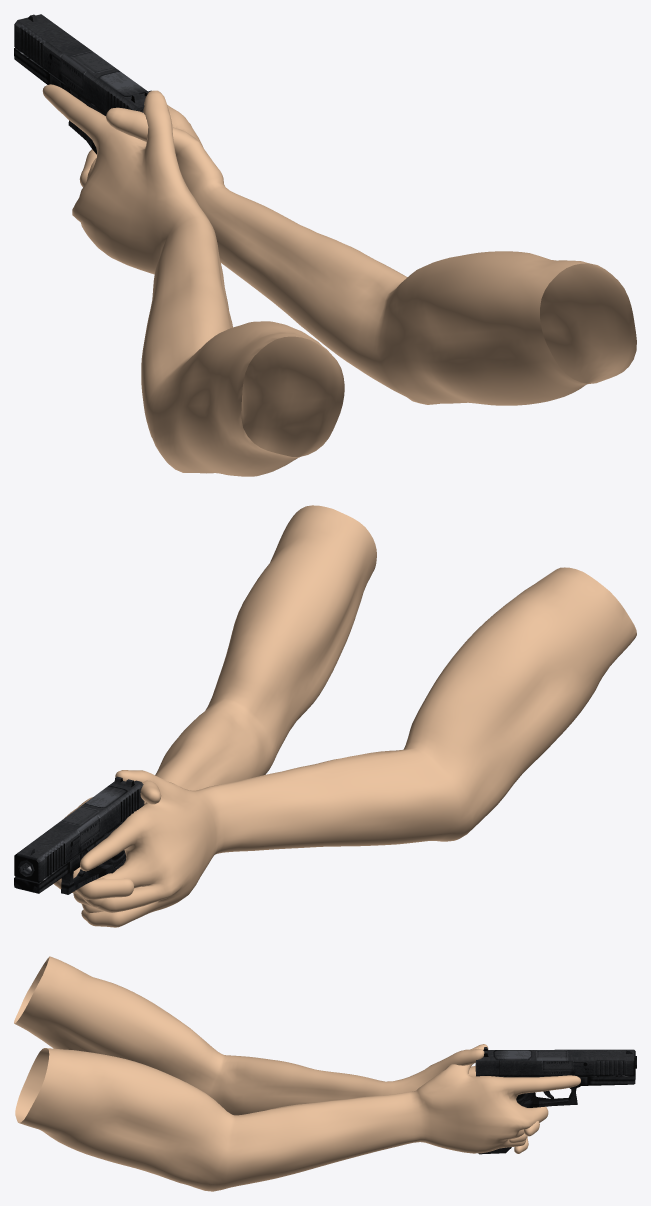
File: brazosparagustavo.fbx
3 views of the same model, one above another, from view 1: azimuth 30°, elevation 25°; view 2: azimuth 150°, elevation 25°; view 3: azimuth 270°, elevation 25° (orthographic). The views are drawn at different scales.
Parts seen in each view (by area): view 1: Mid Poly Arm, arma; view 2: Mid Poly Arm, arma; view 3: Mid Poly Arm, arma.
Boxes of the visible parts, x1,y1,x2,y2 form: Mid Poly Arm: (42, 84, 636, 476); arma: (14, 14, 151, 154); Mid Poly Arm: (53, 505, 636, 927); arma: (14, 776, 144, 894); Mid Poly Arm: (14, 956, 580, 1191); arma: (475, 1047, 636, 1154).
Size of the model in its own units: 4778 by 2675 by 9961.
Materials: 2 (1 with a texture image).
